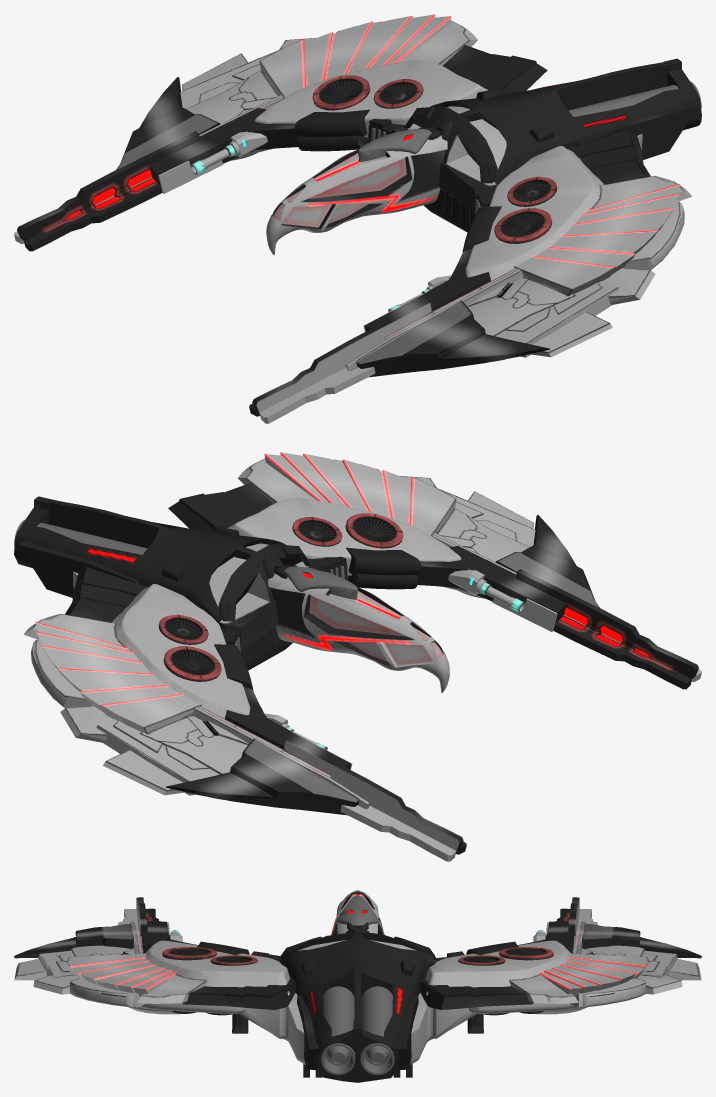
File: ship_4.glb
3 renders of one model, top to bottom at view 1: azimuth 30°, elevation 25°; view 2: azimuth 150°, elevation 25°; view 3: azimuth 270°, elevation 25°, orthographic. The views are drawn at different scales.
Visible parts, largest first — view 1: SpaceShip3.004; view 2: SpaceShip3.004; view 3: SpaceShip3.004.
Boxes of the visible parts, x1=… form: SpaceShip3.004: x1=14, y1=14, x2=701, y2=423; SpaceShip3.004: x1=14, y1=452, x2=701, y2=861; SpaceShip3.004: x1=14, y1=890, x2=701, y2=1082.
Size of the model in its own units: 7.1 by 1.79 by 8.37.
Materials: 1 (1 with a texture image).
